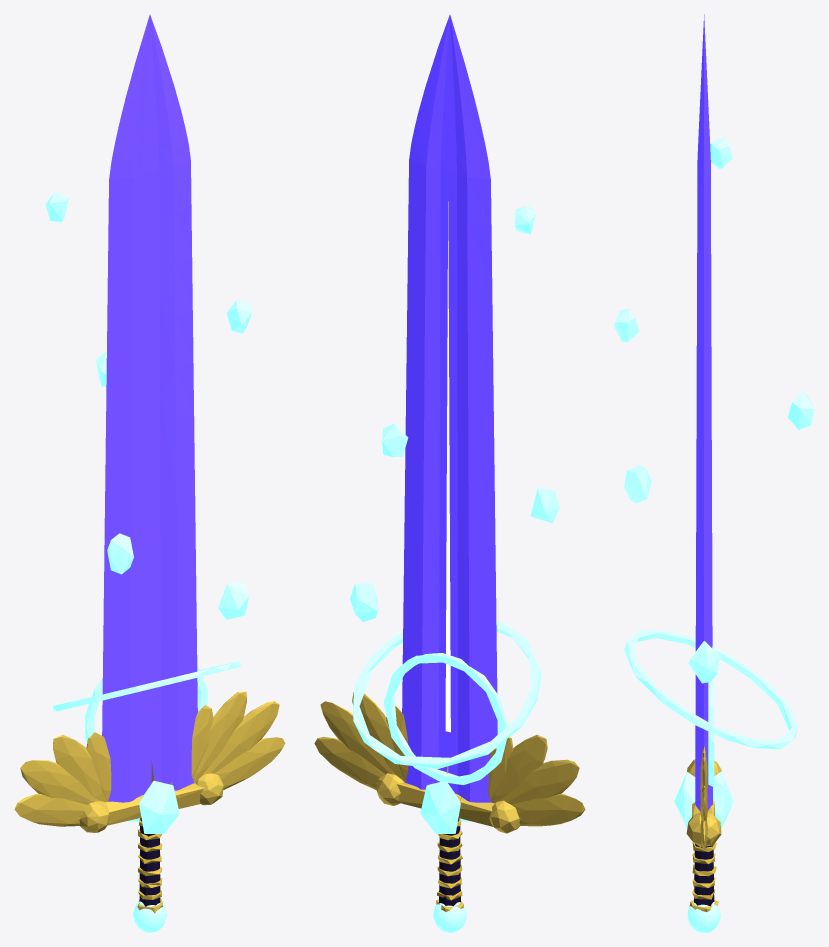
The model's file is sword_9.glb.
3 views of the same model, side by side, from view 1: azimuth 30°, elevation 25°; view 2: azimuth 150°, elevation 25°; view 3: azimuth 270°, elevation 25° (orthographic).
Parts seen in each view (by area): view 1: part_01, part_08, part_13, part_07, part_14, part_09, part_29, part_12, part_23, part_04, part_31, part_10 (+8 smaller); view 2: part_01, part_23, part_22, part_08, part_02, part_07, part_09, part_13, part_30, part_12, part_04, part_14 (+8 smaller); view 3: part_01, part_23, part_24, part_31, part_25, part_06, part_39, part_29, part_30, part_22, part_26, part_27 (+1 smaller).
Boxes of the visible parts, left/top/right/bottom form: part_01: left=102, top=14, right=197, bottom=802; part_08: left=20, top=760, right=100, bottom=804; part_13: left=201, top=701, right=279, bottom=776; part_07: left=14, top=794, right=87, bottom=826; part_14: left=193, top=691, right=246, bottom=783; part_09: left=53, top=734, right=106, bottom=802; part_29: left=139, top=780, right=179, bottom=833; part_12: left=214, top=737, right=285, bottom=789; part_23: left=52, top=661, right=240, bottom=711; part_04: left=105, top=783, right=204, bottom=825; part_31: left=139, top=818, right=160, bottom=906; part_10: left=86, top=732, right=111, bottom=801; part_01: left=402, top=14, right=497, bottom=802; part_23: left=353, top=620, right=541, bottom=768; part_22: left=383, top=653, right=507, bottom=784; part_08: left=498, top=759, right=579, bottom=804; part_02: left=445, top=201, right=450, bottom=732; part_07: left=511, top=794, right=585, bottom=826; part_09: left=491, top=734, right=547, bottom=803; part_13: left=320, top=701, right=405, bottom=782; part_30: left=420, top=781, right=460, bottom=833; part_12: left=314, top=737, right=384, bottom=789; part_04: left=397, top=782, right=494, bottom=826; part_14: left=352, top=692, right=405, bottom=781; part_01: left=695, top=14, right=712, bottom=811; part_23: left=624, top=629, right=797, bottom=749; part_24: left=688, top=641, right=719, bottom=683; part_31: left=694, top=843, right=714, bottom=906; part_25: left=624, top=465, right=651, bottom=503; part_06: left=686, top=812, right=721, bottom=847; part_39: left=687, top=901, right=720, bottom=932; part_29: left=674, top=772, right=695, bottom=829; part_30: left=713, top=772, right=733, bottom=829; part_22: left=708, top=645, right=714, bottom=786; part_26: left=788, top=392, right=814, bottom=429; part_27: left=614, top=308, right=639, bottom=342.
Size of the model in its own units: 0.5284 by 1.71 by 0.3389.
